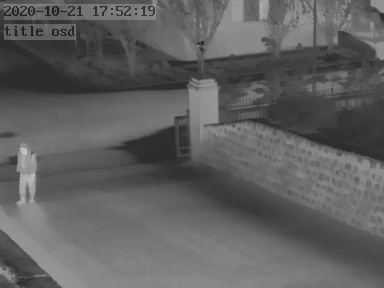person: (16, 141, 39, 205)
